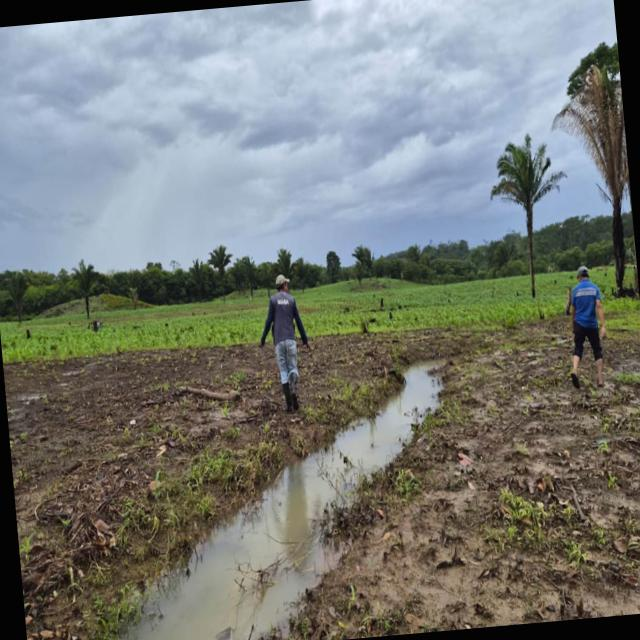suelo_humedo: (26, 370, 130, 433)
